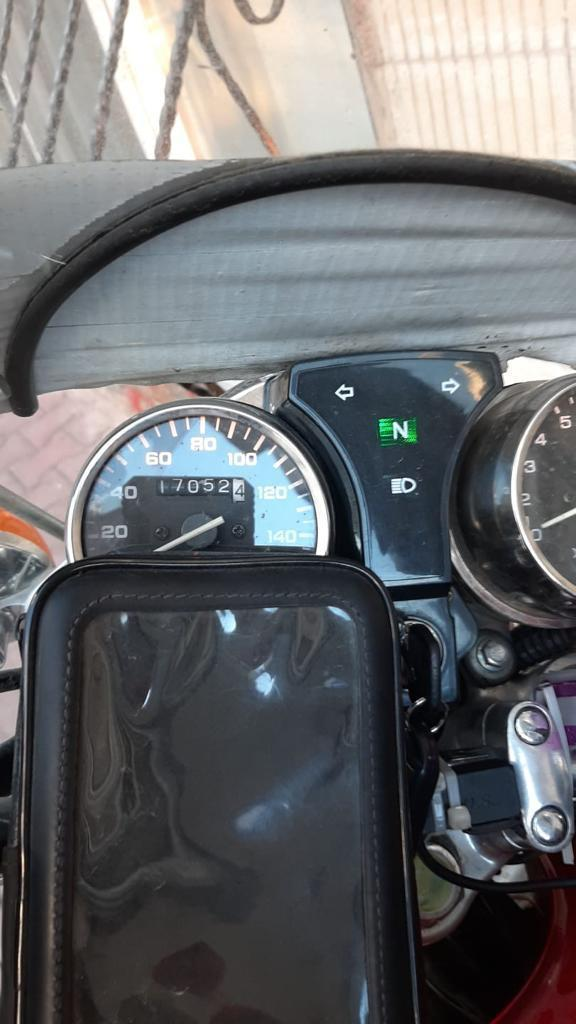0: (187, 479, 199, 493)
1: (159, 479, 165, 494)
2: (217, 479, 229, 493)
4: (234, 484, 244, 497)
5: (203, 478, 214, 491)
7: (172, 478, 182, 491)
odometer: (154, 476, 247, 504)
